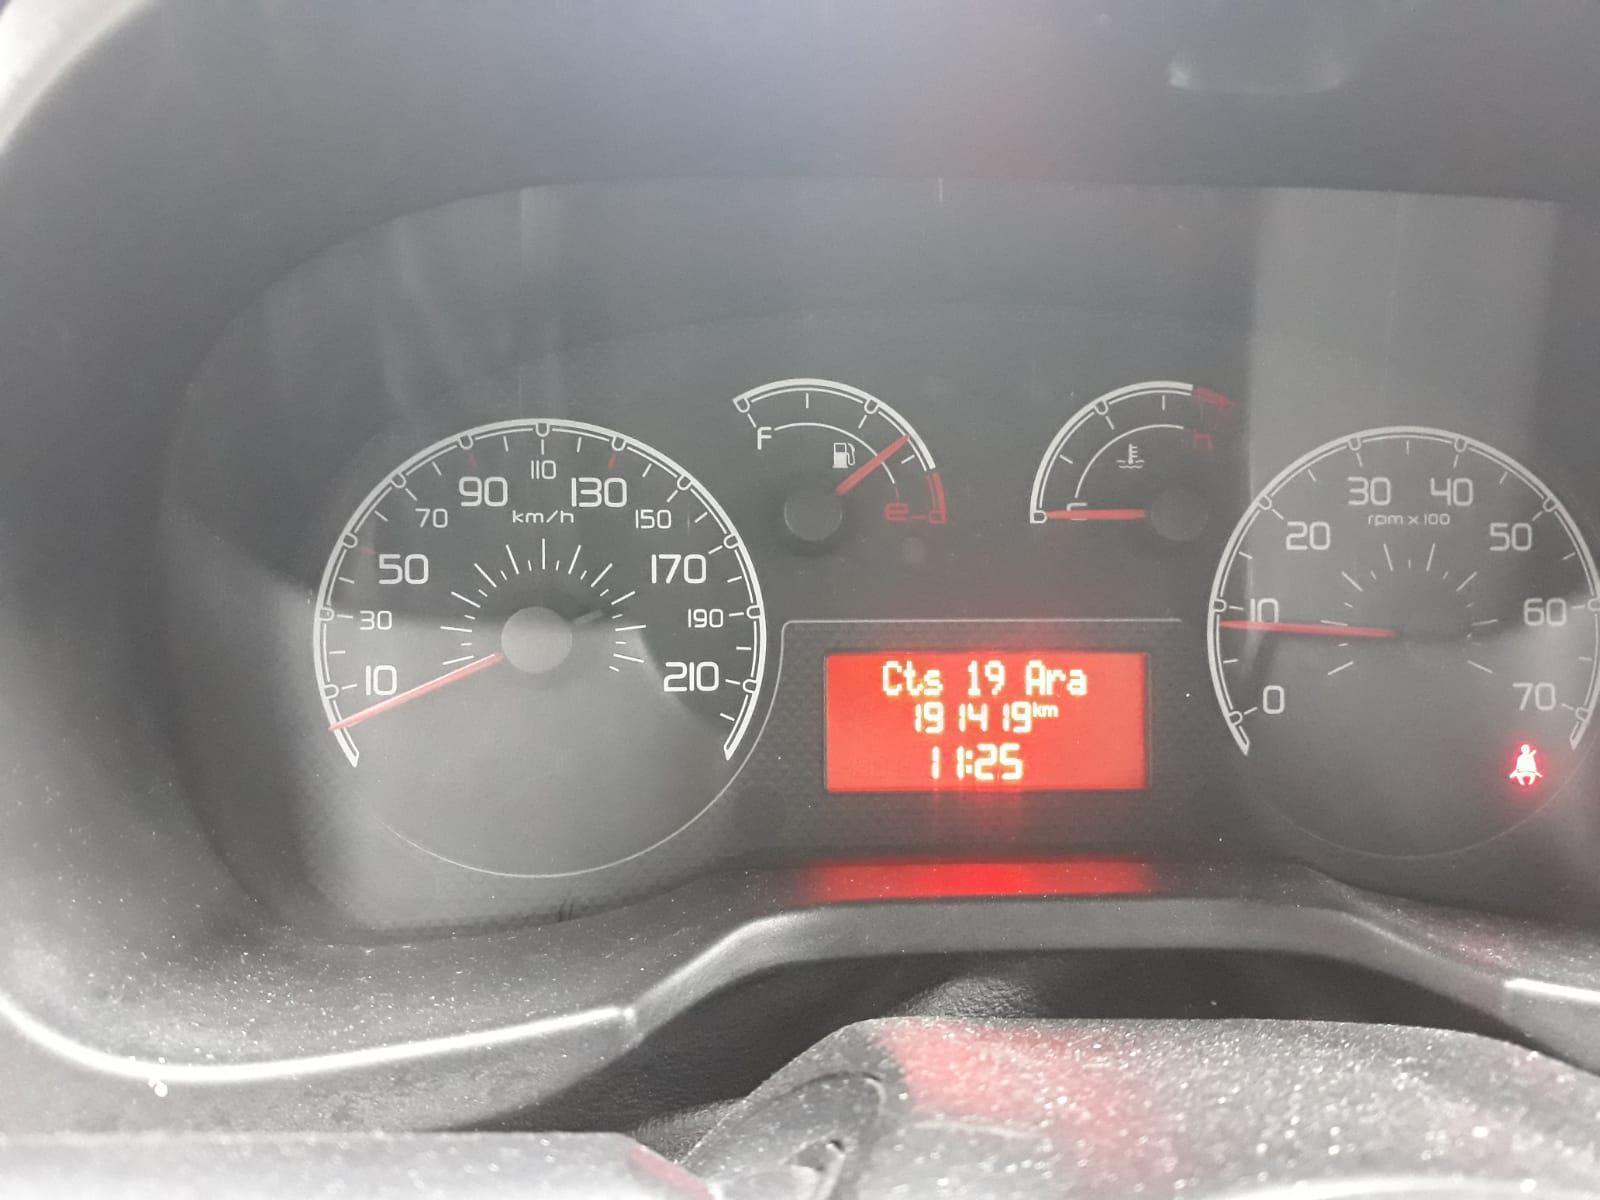1: (964, 655, 981, 698), (929, 744, 941, 782), (954, 742, 965, 782), (999, 700, 1010, 734), (955, 701, 966, 734), (912, 701, 922, 734)
2: (974, 740, 997, 782)
4: (966, 701, 989, 735)
5: (998, 740, 1024, 782)
9: (981, 658, 1007, 697), (1010, 700, 1032, 734), (923, 700, 944, 734)
X: (879, 657, 903, 700), (1022, 655, 1044, 697), (1065, 667, 1090, 700), (903, 659, 923, 697), (923, 667, 944, 698), (1044, 667, 1065, 696), (1042, 703, 1058, 718), (1031, 700, 1043, 718), (965, 747, 973, 776)
odometer: (816, 644, 1154, 795)
